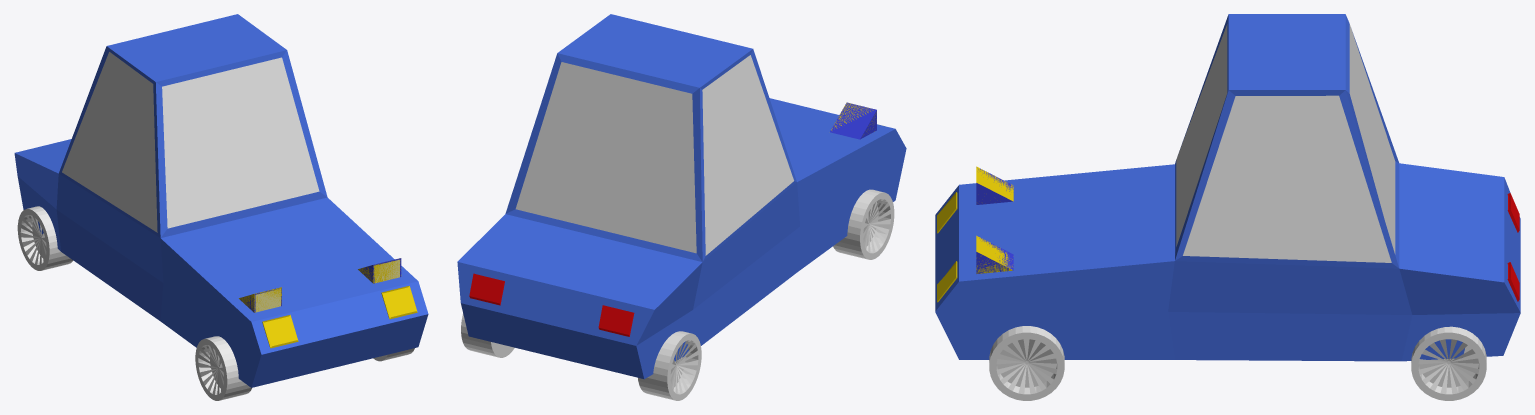
Rendered from low_poly_car.fbx.
The picture shows the model from 3 angles, left to right: view 1: azimuth 30°, elevation 25°; view 2: azimuth 150°, elevation 25°; view 3: azimuth 270°, elevation 25°; orthographic projection. The views are drawn at different scales.
Parts seen in each view (by area): view 1: Cube, Cube.001; view 2: Cube, Cube.001; view 3: Cube, Cube.001.
Part boxes in pixels (left/top/right/bottom): Cube: left=14, top=14, right=428, bottom=387; Cube.001: left=17, top=206, right=417, bottom=400; Cube: left=457, top=14, right=906, bottom=379; Cube.001: left=461, top=102, right=894, bottom=400; Cube: left=935, top=14, right=1520, bottom=361; Cube.001: left=937, top=166, right=1519, bottom=400.
Size of the model in its own units: 209 by 260 by 470.
